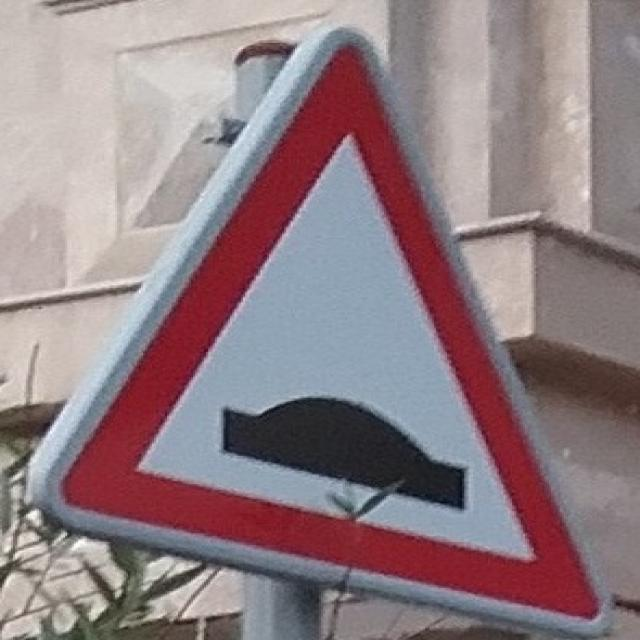HUMP_OR_ROUGH_ROAD: (30, 30, 602, 625)
